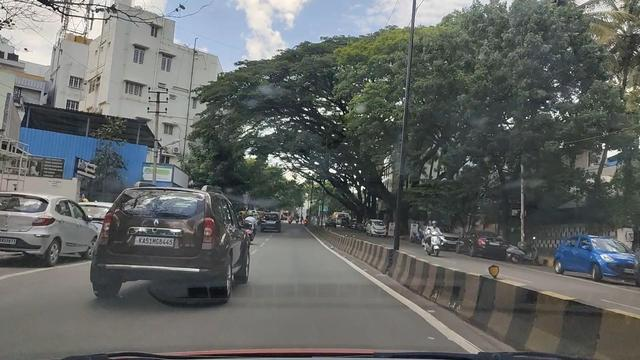LMV: (94, 177, 254, 309)
